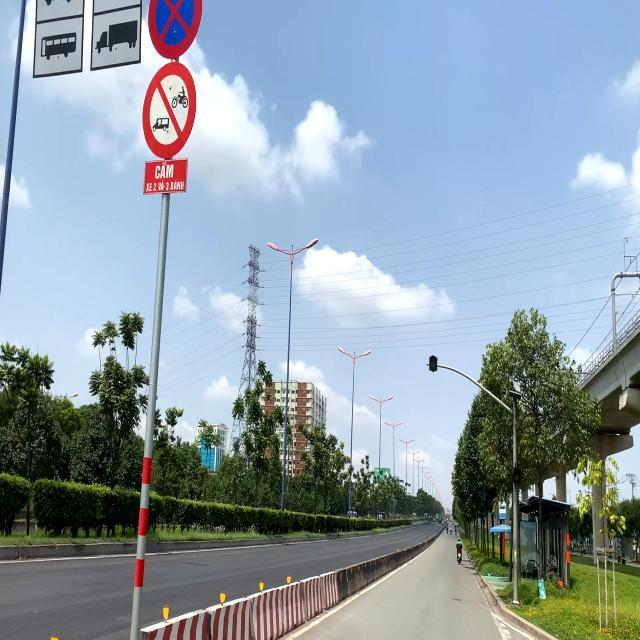130-cam-dung-va-do-xe: (145, 1, 203, 58)
